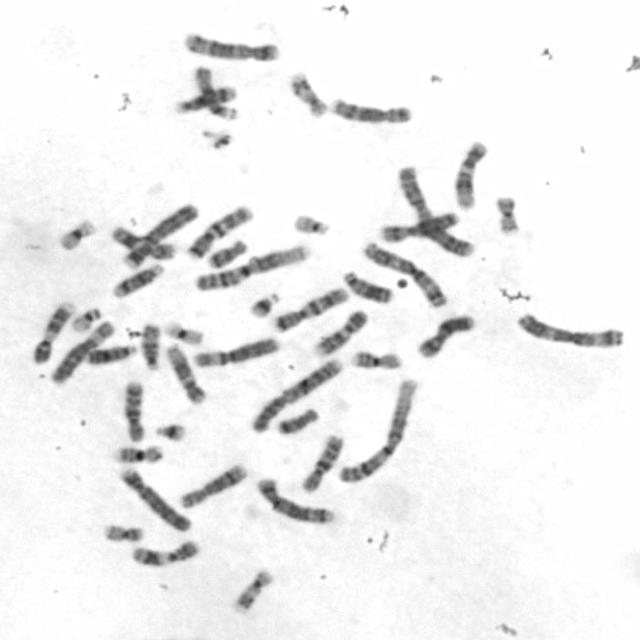A1: (335, 376, 418, 484), (192, 245, 310, 293)
A2: (250, 354, 344, 436), (397, 165, 477, 258)
A3: (363, 242, 450, 308), (514, 311, 627, 348)
B4: (120, 202, 200, 268), (118, 467, 193, 532)
B5: (256, 477, 338, 526), (183, 32, 280, 63)
C10: (299, 433, 347, 495), (124, 379, 146, 444)
C11: (110, 224, 178, 262), (130, 542, 202, 568)
C12: (163, 340, 206, 405), (454, 141, 487, 211)
C6: (49, 321, 114, 384), (192, 337, 282, 368)
C7: (187, 203, 255, 260), (271, 286, 350, 335)
C8: (179, 463, 250, 511), (329, 96, 413, 125)
C9: (31, 300, 76, 365), (313, 309, 368, 358)
D13: (343, 270, 394, 305), (80, 344, 138, 366)
D14: (109, 262, 162, 300), (173, 85, 238, 113)
D15: (194, 64, 240, 123), (140, 323, 163, 372)
E16: (350, 349, 404, 371), (112, 446, 165, 464)
E17: (232, 568, 275, 614), (288, 70, 328, 118)
E18: (207, 238, 249, 270), (277, 406, 320, 436)
F19: (56, 218, 99, 253), (165, 321, 205, 345)
F20: (494, 195, 521, 235), (101, 523, 145, 543)
G21: (248, 290, 282, 319), (152, 422, 188, 444)
G22: (68, 307, 104, 334), (292, 213, 330, 237)
X: (416, 314, 476, 361), (379, 210, 459, 243)
